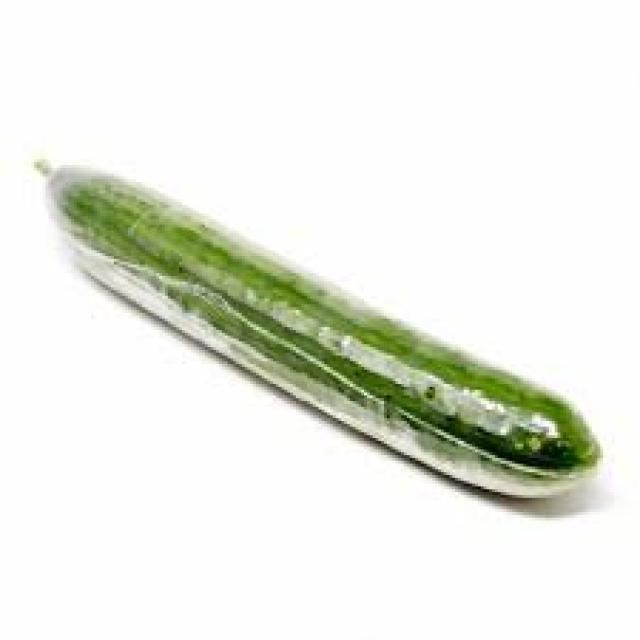cucumber: (45, 164, 603, 498)
